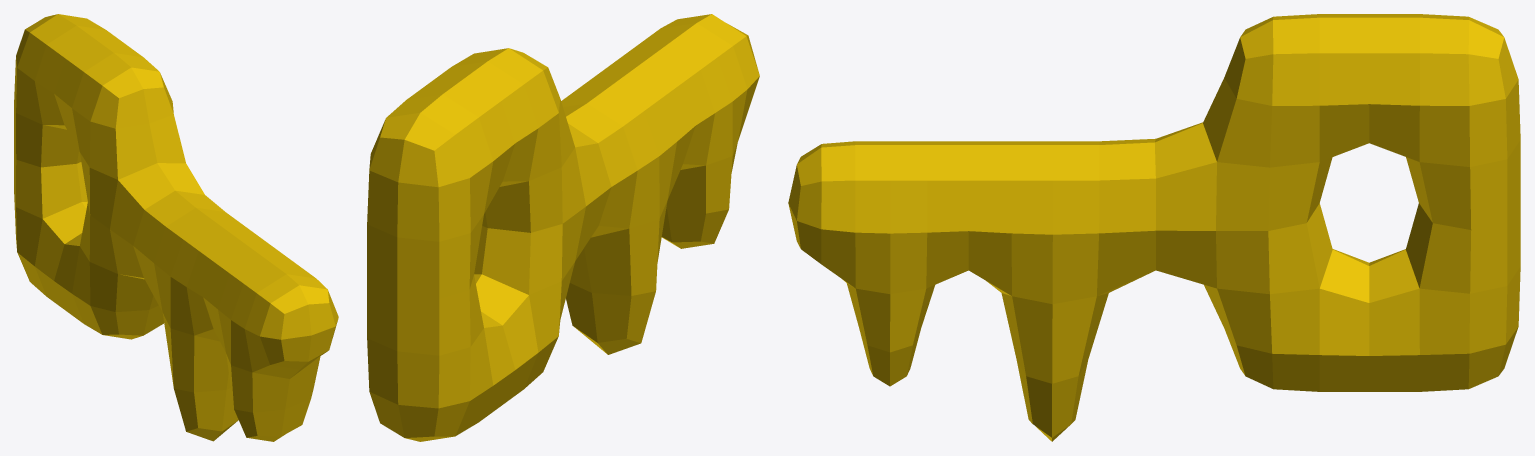
Rendered from ForestKey.glb.
3 renders of one model, left to right at view 1: azimuth 30°, elevation 25°; view 2: azimuth 150°, elevation 25°; view 3: azimuth 270°, elevation 25°, orthographic. The views are drawn at different scales.
Parts seen in each view (by area): view 1: Cube; view 2: Cube; view 3: Cube.
Part boxes in pixels (box(x1,y1,x2,y2)): Cube: box(14, 14, 338, 441); Cube: box(367, 14, 759, 441); Cube: box(788, 14, 1520, 441).
Bounding box in the file's own units: 0.1181 × 0.416 × 0.6508.
